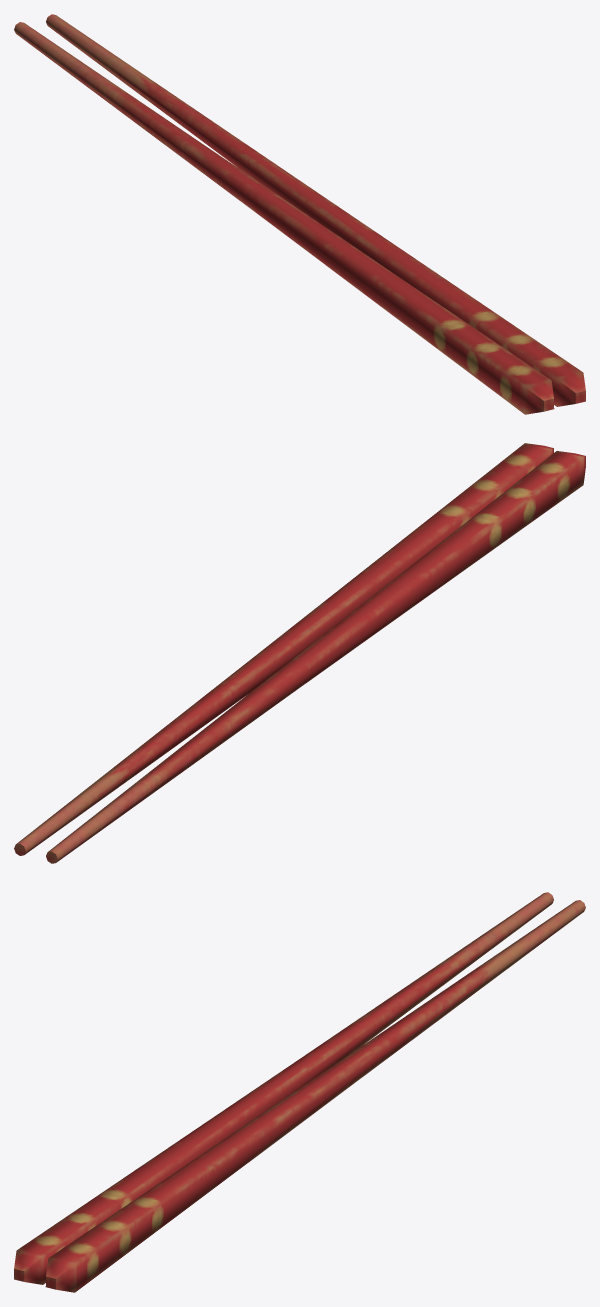
File: M_Chopsticks_01.FBX
3 views of the same model, one above another, from view 1: azimuth 30°, elevation 25°; view 2: azimuth 150°, elevation 25°; view 3: azimuth 330°, elevation 25° (orthographic).
Visible parts, largest first — view 1: M_Chopsticks_01; view 2: M_Chopsticks_01; view 3: M_Chopsticks_01.
Part boxes in pixels (bbox=[...]): M_Chopsticks_01: bbox=[14, 14, 585, 414]; M_Chopsticks_01: bbox=[14, 443, 585, 863]; M_Chopsticks_01: bbox=[14, 892, 585, 1292].
Size of the model in its own units: 1.42 by 22.19 by 0.7031.
